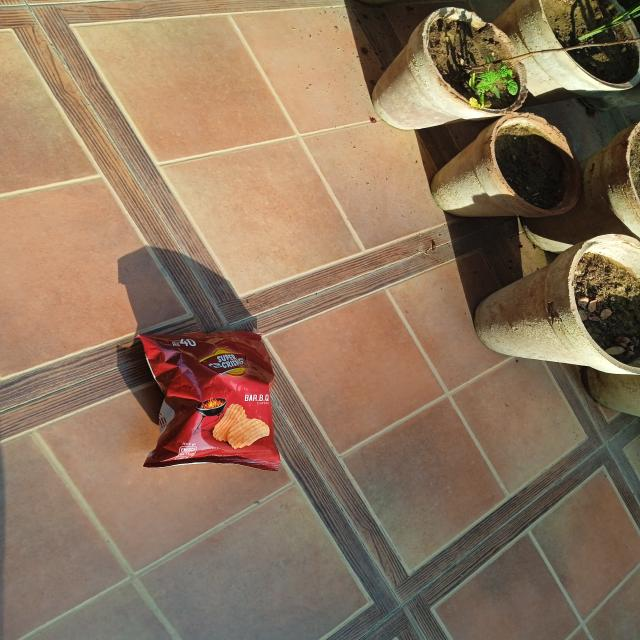Plastic: (136, 325, 290, 472)
